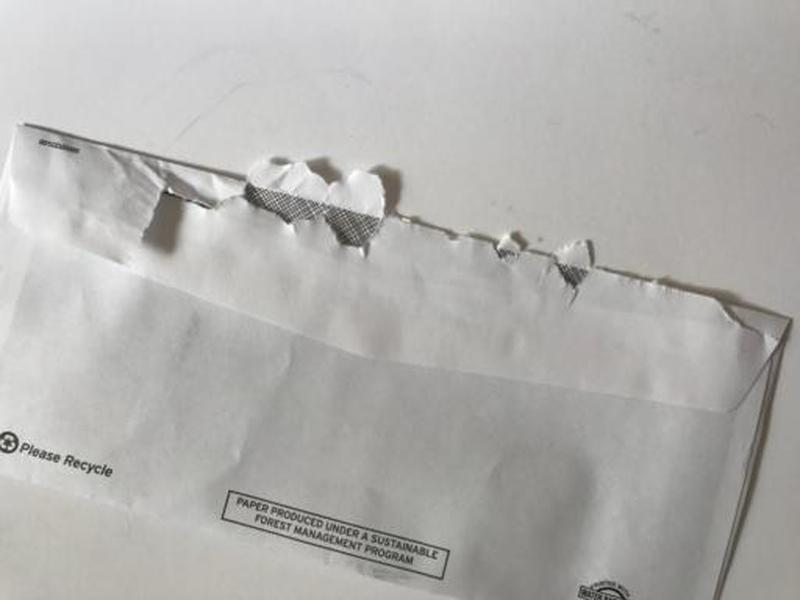paper: (1, 105, 795, 600)
